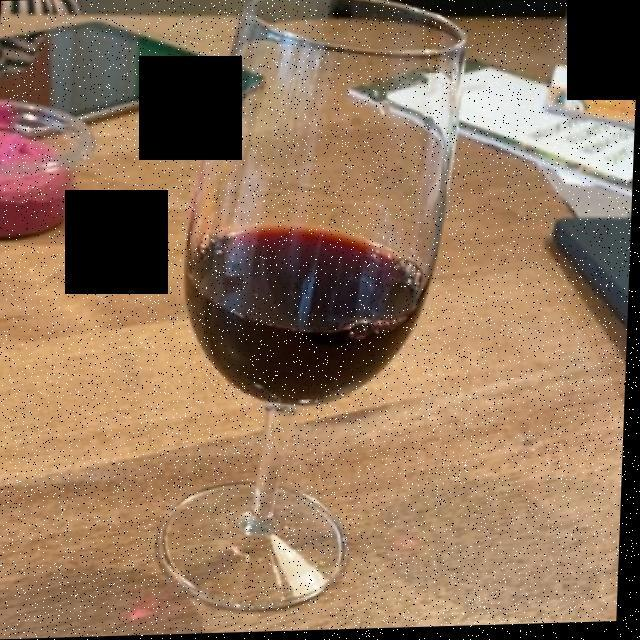wine: (187, 227, 426, 407), (184, 230, 431, 399)
